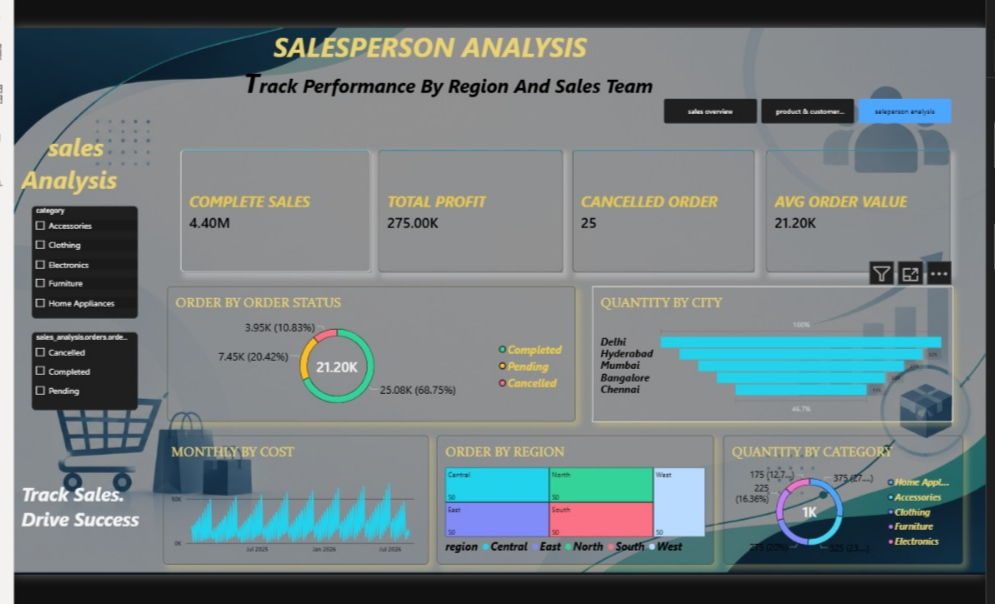

The page's visual inventory and layout, read from the dashboard file:
{"tool":"powerbi","page":{"name":"saleperson analysis","canvas":[1920,1080],"ordinal":2},"visuals":[{"type":"textbox","box":[14.4,0,263.5,1080.6],"z":0},{"type":"textbox","box":[277.9,0,1642.5,207.9],"z":1},{"type":"cardVisual","fields":{"Data":["sales_analysis customers.COMPLETE SALES"]},"box":[328.8,240.8,376.7,242.9],"z":2},{"type":"cardVisual","fields":{"Data":["sales_analysis customers.TOTAL PROFIT"]},"box":[720.4,240.8,364.3,242.9],"z":3},{"type":"cardVisual","fields":{"Data":["sales_analysis customers.CANCELLED ORDER"]},"box":[1103.7,240.8,360.2,242.9],"z":4},{"type":"cardVisual","fields":{"Data":["sales_analysis customers.AVG ORDER VALUE"]},"box":[1486.9,240.8,364.3,242.9],"z":6},{"type":"donutChart","title":"                                     ORDER BY ORDER STATUS","fields":{"Category":["sales_analysis customers.sales_analysis.orders.order_status"],"Y":["sales_analysis customers.AVG ORDER VALUE"]},"box":[302.6,510.5,806.9,267.6],"z":7},{"type":"funnel","title":"QUANTITY BY CITY","fields":{"Category":["sales_analysis customers.city"],"Y":["sales_analysis customers.TOTAL QUANTITY"]},"box":[1142.4,510.5,712.2,267.6],"z":8},{"type":"treemap","title":"ORDER BY REGION","fields":{"Group":["sales_analysis salespeople.region"],"Values":["sales_analysis customers.TOTAL ORDERS"]},"box":[835.7,804.8,547.5,255.2],"z":9},{"type":"lineChart","title":"MONTHLY BY COST","fields":{"Category":["sales_analysis order_details.sales_analysis.orders.order_date.Variation.Date Hierarchy.Year","sales_analysis order_details.sales_analysis.orders.order_date.Variation.Date Hierarchy.Quarter","sales_analysis order_details.sales_analysis.orders.order_date.Variation.Date Hierarchy.Month","sales_analysis order_details.sales_analysis.orders.order_date.Variation.Date Hierarchy.Day"],"Y":["sales_analysis customers.TOTAL COST"]},"box":[294.3,804.8,524.9,255.2],"z":12},{"type":"donutChart","title":"QUANTITY BY CATEGORY","fields":{"Category":["sales_analysis order_details.sales_analysis.products.category"],"Y":["Sum(sales_analysis order_details.quantity)"]},"box":[1401.7,804.8,473.4,255.2],"z":13},{"type":"slicer","fields":{"Values":["sales_analysis products.category"]},"box":[35,352,209.9,222.3],"z":14},{"type":"slicer","fields":{"Values":["sales_analysis customers.sales_analysis.orders.order_status"]},"box":[35,601,209.9,154.4],"z":15},{"type":"pageNavigator","box":[1325.6,121.4,570.2,49.4],"z":22}]}

Visuals, with their boxes on the page's 1920x1080 design canvas (x1, y1, x2, y2). These are canvas units, not pixel positions in the 995x604 screenshot, which may show the page scaled, cropped or inside an application window:
textbox: 14, 0, 278, 1081
textbox: 278, 0, 1920, 208
cardVisual - sales_analysis customers.COMPLETE SALES: 329, 241, 706, 484
cardVisual - sales_analysis customers.TOTAL PROFIT: 720, 241, 1085, 484
cardVisual - sales_analysis customers.CANCELLED ORDER: 1104, 241, 1464, 484
cardVisual - sales_analysis customers.AVG ORDER VALUE: 1487, 241, 1851, 484
"                                     ORDER BY ORDER STATUS" donutChart: 303, 510, 1110, 778
"QUANTITY BY CITY" funnel: 1142, 510, 1855, 778
"ORDER BY REGION" treemap: 836, 805, 1383, 1060
"MONTHLY BY COST" lineChart: 294, 805, 819, 1060
"QUANTITY BY CATEGORY" donutChart: 1402, 805, 1875, 1060
slicer - sales_analysis products.category: 35, 352, 245, 574
slicer - sales_analysis customers.sales_analysis.orders.order_status: 35, 601, 245, 755
pageNavigator: 1326, 121, 1896, 171
